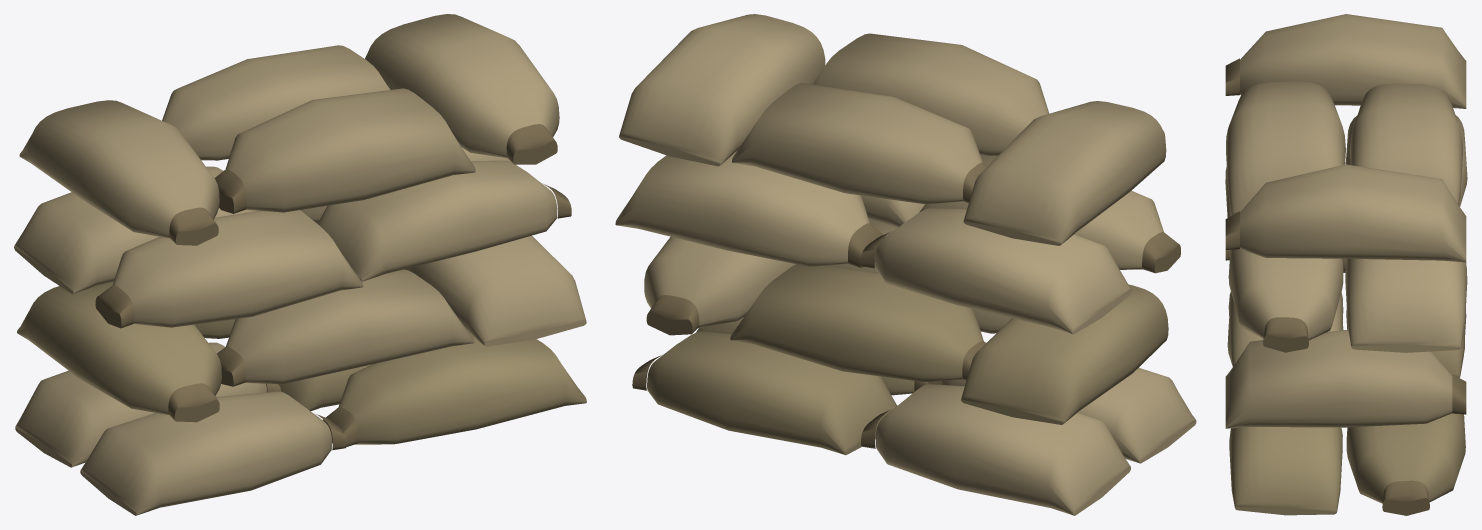
Rendered from sandbags.glb.
3 views of the same model, side by side, from view 1: azimuth 30°, elevation 25°; view 2: azimuth 150°, elevation 25°; view 3: azimuth 270°, elevation 25° (orthographic). The views are drawn at different scales.
Parts seen in each view (by area): view 1: Sandbags; view 2: Sandbags; view 3: Sandbags.
Part boxes in pixels (box(x1,y1,x2,y2)): Sandbags: box(14, 14, 586, 515); Sandbags: box(615, 14, 1196, 515); Sandbags: box(1225, 14, 1467, 515).
Size of the model in its own units: 1.2 by 0.9 by 0.6.
